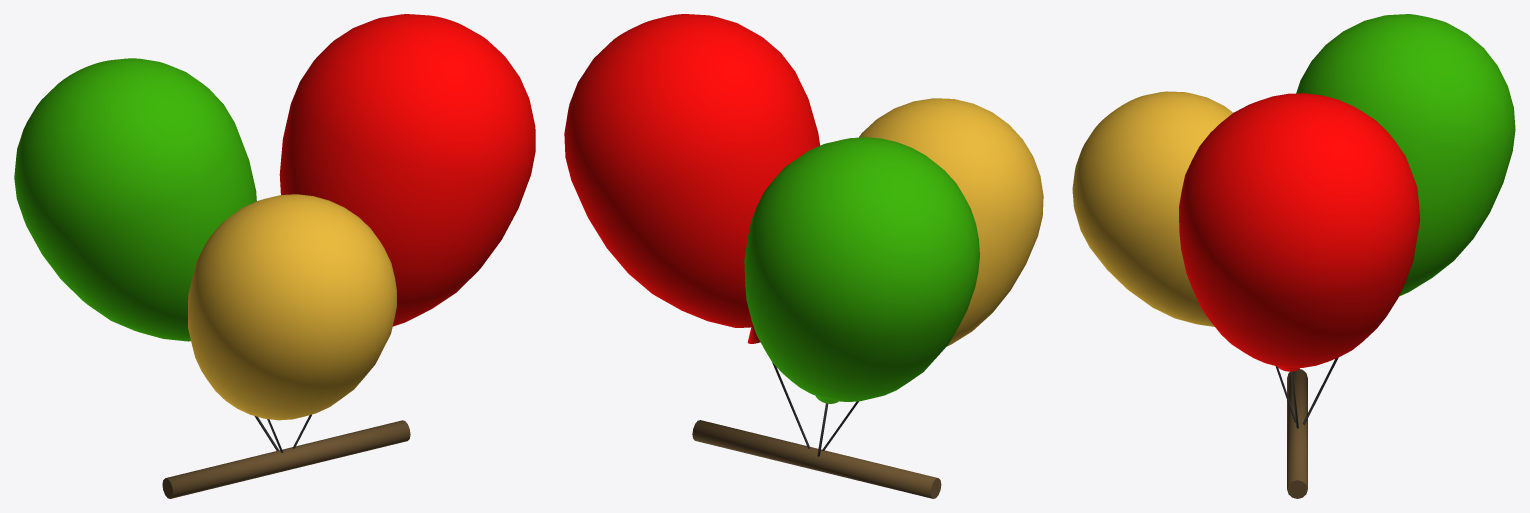
File: MG_Ballon_Advertise.fbx
3 views of the same model, side by side, from view 1: azimuth 30°, elevation 25°; view 2: azimuth 150°, elevation 25°; view 3: azimuth 270°, elevation 25° (orthographic). The views are drawn at different scales.
Visible parts, largest first — view 1: MG_Ballon_Advertise; view 2: MG_Ballon_Advertise; view 3: MG_Ballon_Advertise.
Part boxes in pixels (box(x1,y1,x2,y2)): MG_Ballon_Advertise: box(14, 14, 535, 498); MG_Ballon_Advertise: box(564, 14, 1043, 498); MG_Ballon_Advertise: box(1072, 14, 1515, 498).
Bounding box in the file's own units: 4.06 × 3.67 × 3.71.
